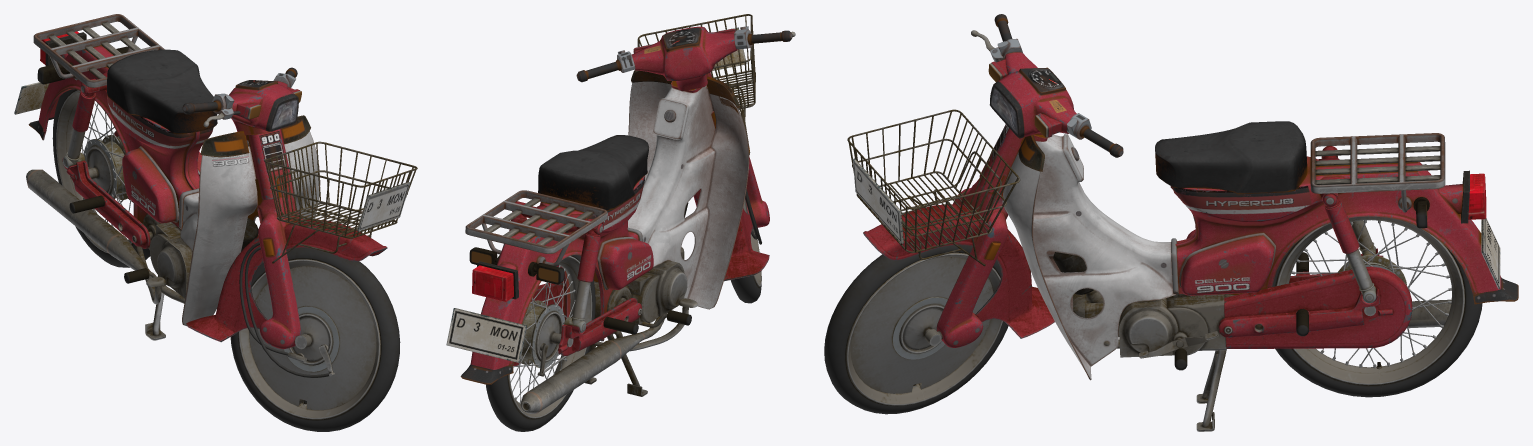
File: honda_super_cub_c70_custom.glb
3 views of the same model, side by side, from view 1: azimuth 30°, elevation 25°; view 2: azimuth 150°, elevation 25°; view 3: azimuth 270°, elevation 25° (orthographic). The views are drawn at different scales.
Parts seen in each view (by area): view 1: SCSeat_Low.004; view 2: SCSeat_Low.004; view 3: SCSeat_Low.004.
Part boxes in pixels (<box>): SCSeat_Low.004: <box>14,14,417,431</box>; SCSeat_Low.004: <box>446,14,795,431</box>; SCSeat_Low.004: <box>824,14,1518,431</box>.
Bounding box in the file's own units: 0.66 × 1.02 × 1.82.
2 materials, 2 textured.
